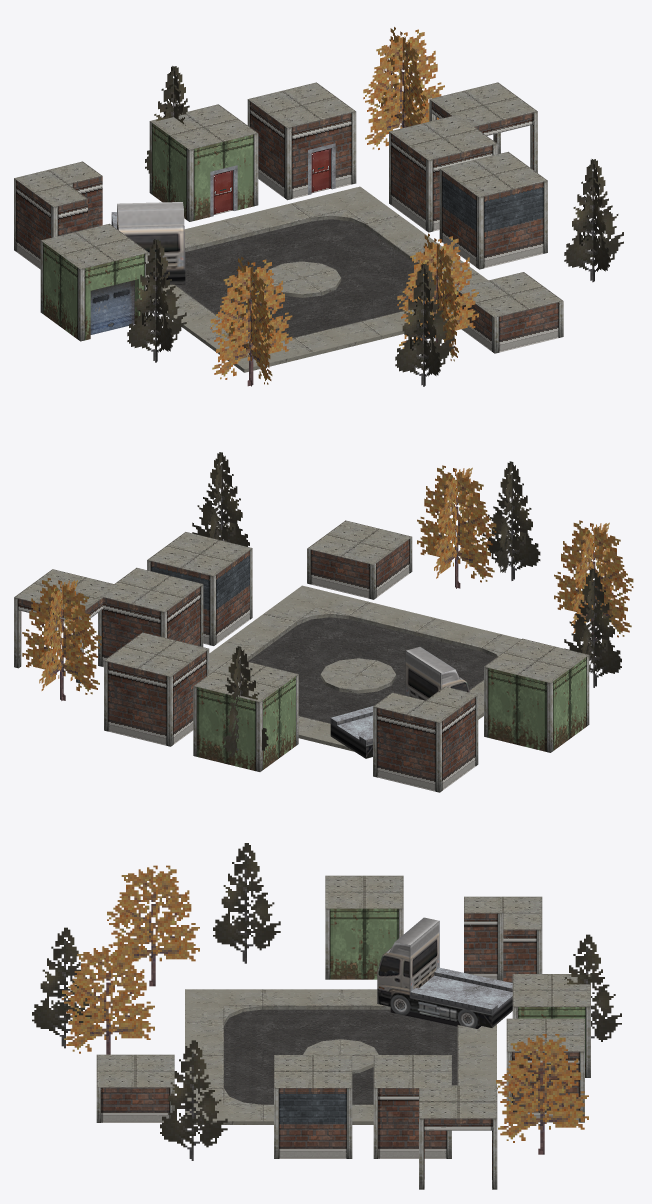
Rendered from urban.glb.
The picture shows the model from 3 angles, top to bottom: view 1: azimuth 30°, elevation 25°; view 2: azimuth 150°, elevation 25°; view 3: azimuth 270°, elevation 25°; orthographic projection. The views are drawn at different scales.
Parts seen in each view (by area): view 1: roadAsphalt_corner.002, wallA_painted, wallB_door, wallA_door, wallB_garage, wallA, roadAsphalt_corner.004, wallA_corner, tree_large.002, wallA_low, roadAsphalt_corner.001, tree_large (+8 smaller); view 2: roadAsphalt_corner.001, wallB_garage, wallA_corner, wallA_door, wallB_door, wallA, wallA_painted, wallA_low, tree_large, tree_large.001, roadAsphalt_corner.004, tree_large.002 (+8 smaller); view 3: roadAsphalt_corner.004, truck_flat, wallA_painted, wallB_garage, wallA, roadAsphalt_corner.003, wallA_corner, tree_large, tree_large.001, tree_large.002, wallA_low, roadAsphalt_corner.001 (+8 smaller).
Boxes of the visible parts, bbox=[...] form: roadAsphalt_corner.002: bbox=[223, 186, 438, 277]; wallA_painted: bbox=[439, 151, 547, 269]; wallB_door: bbox=[149, 104, 258, 221]; wallA_door: bbox=[247, 82, 356, 200]; wallB_garage: bbox=[40, 223, 149, 341]; wallA: bbox=[389, 115, 497, 232]; roadAsphalt_corner.004: bbox=[166, 278, 381, 372]; wallA_corner: bbox=[14, 161, 102, 269]; tree_large.002: bbox=[210, 257, 292, 386]; wallA_low: bbox=[455, 272, 563, 353]; roadAsphalt_corner.001: bbox=[302, 245, 488, 339]; tree_large: bbox=[363, 27, 444, 149]; roadAsphalt_corner.001: bbox=[225, 585, 434, 673]; wallB_garage: bbox=[484, 638, 589, 752]; wallA_corner: bbox=[373, 686, 478, 792]; wallA_door: bbox=[104, 632, 209, 746]; wallB_door: bbox=[193, 658, 298, 771]; wallA: bbox=[98, 567, 203, 667]; wallA_painted: bbox=[147, 532, 252, 645]; wallA_low: bbox=[307, 520, 412, 599]; tree_large: bbox=[22, 578, 101, 700]; tree_large.001: bbox=[417, 465, 496, 588]; roadAsphalt_corner.004: bbox=[358, 618, 521, 704]; tree_large.002: bbox=[554, 520, 633, 642]; roadAsphalt_corner.004: bbox=[185, 989, 341, 1059]; truck_flat: bbox=[377, 917, 512, 1028]; wallA_painted: bbox=[274, 1055, 352, 1158]; wallB_garage: bbox=[325, 875, 403, 979]; wallA: bbox=[373, 1055, 451, 1158]; roadAsphalt_corner.003: bbox=[340, 989, 496, 1059]; wallA_corner: bbox=[464, 896, 542, 982]; tree_large: bbox=[496, 1034, 588, 1154]; tree_large.001: bbox=[62, 944, 154, 1054]; tree_large.002: bbox=[107, 865, 199, 986]; wallA_low: bbox=[96, 1054, 174, 1122]; roadAsphalt_corner.001: bbox=[185, 1055, 273, 1124].
Size of the model in its own units: 7.48 by 1.72 by 7.97.
38 materials, 38 textured.
